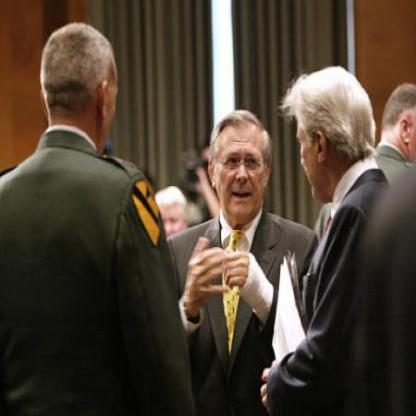face: (216, 113, 269, 222), (157, 191, 187, 252)
